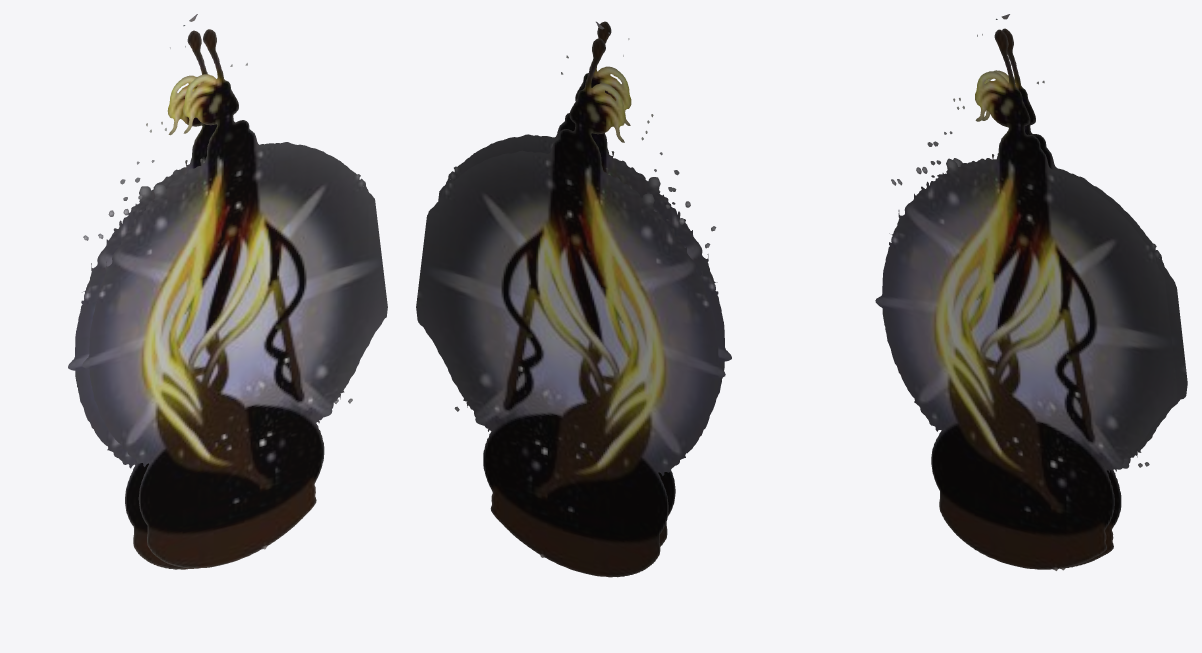
Rendered from SM_QueensStatue.fbx.
3 renders of one model, left to right at view 1: azimuth 30°, elevation 25°; view 2: azimuth 150°, elevation 25°; view 3: azimuth 330°, elevation 25°, orthographic.
Visible parts, largest first — view 1: SM_QueensStatue; view 2: SM_QueensStatue; view 3: SM_QueensStatue.
Boxes of the visible parts, x1,y1,x2,y2 form: SM_QueensStatue: (68,14,387,569); SM_QueensStatue: (416,21,731,577); SM_QueensStatue: (875,14,1187,570).
Size of the model in its own units: 0.7976 by 1.23 by 0.0395.
